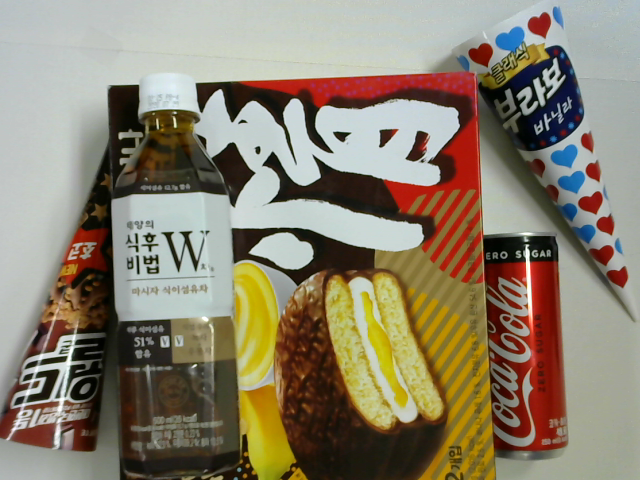Bravo_Cone_(Banila)_CVS: (447, 1, 640, 325)
Choco_Pie_Banana: (113, 73, 498, 480)
Coca_Cola_Zero_Can_250ml: (480, 228, 568, 459)
Post-meal_recipe_W_tea_500ml: (115, 74, 240, 479)
World_Cone_Choco: (2, 124, 131, 448)
